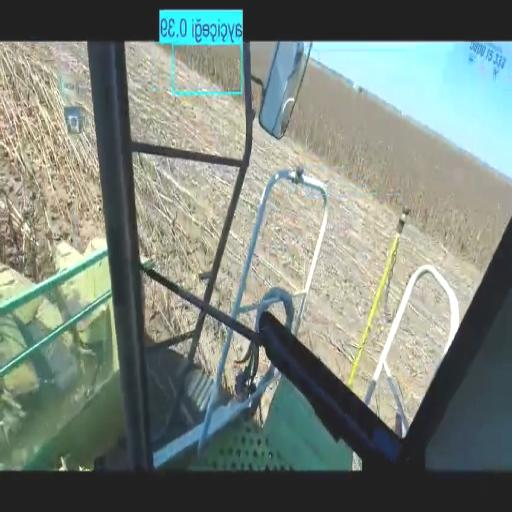ayc: (288, 61, 512, 267), (177, 47, 237, 87)
